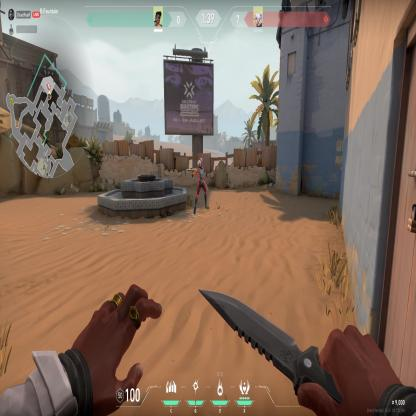enemy: (188, 160, 210, 216)
